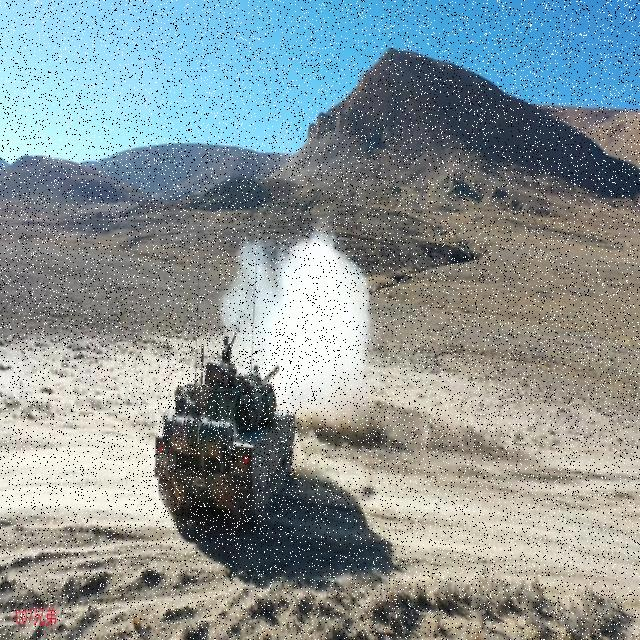MIL_MBT: (154, 327, 297, 534)
